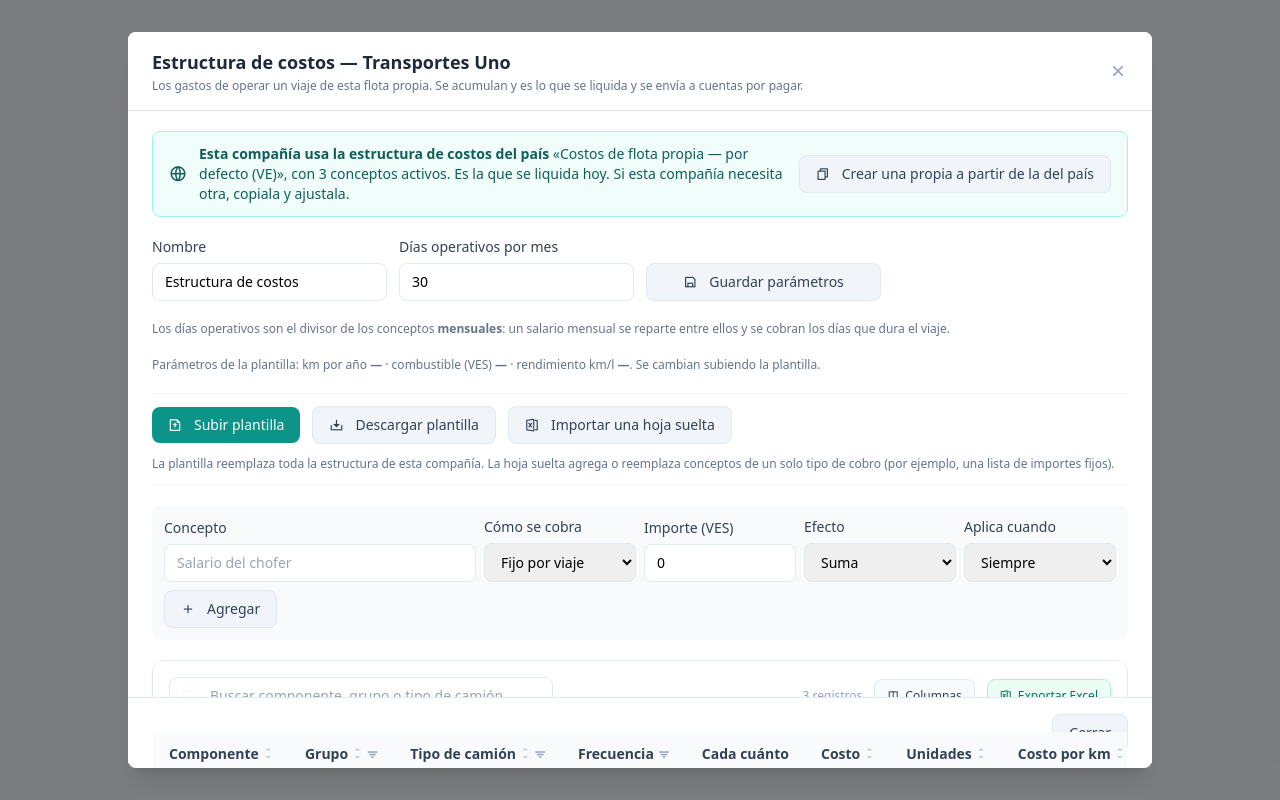
Test: CostStructureModal: parámetros, plantilla e importación › guardar parámetros sin estructura propia crea una con el nombre indicado
Expected: the text "Esta compañía usa la estructura de costos del país" is shown, [199,144,549,163]
Step 1. Replace the text in the field labelled "Nombre" with "Estructura VE 2026" → (270, 282), box [152,263,387,301]
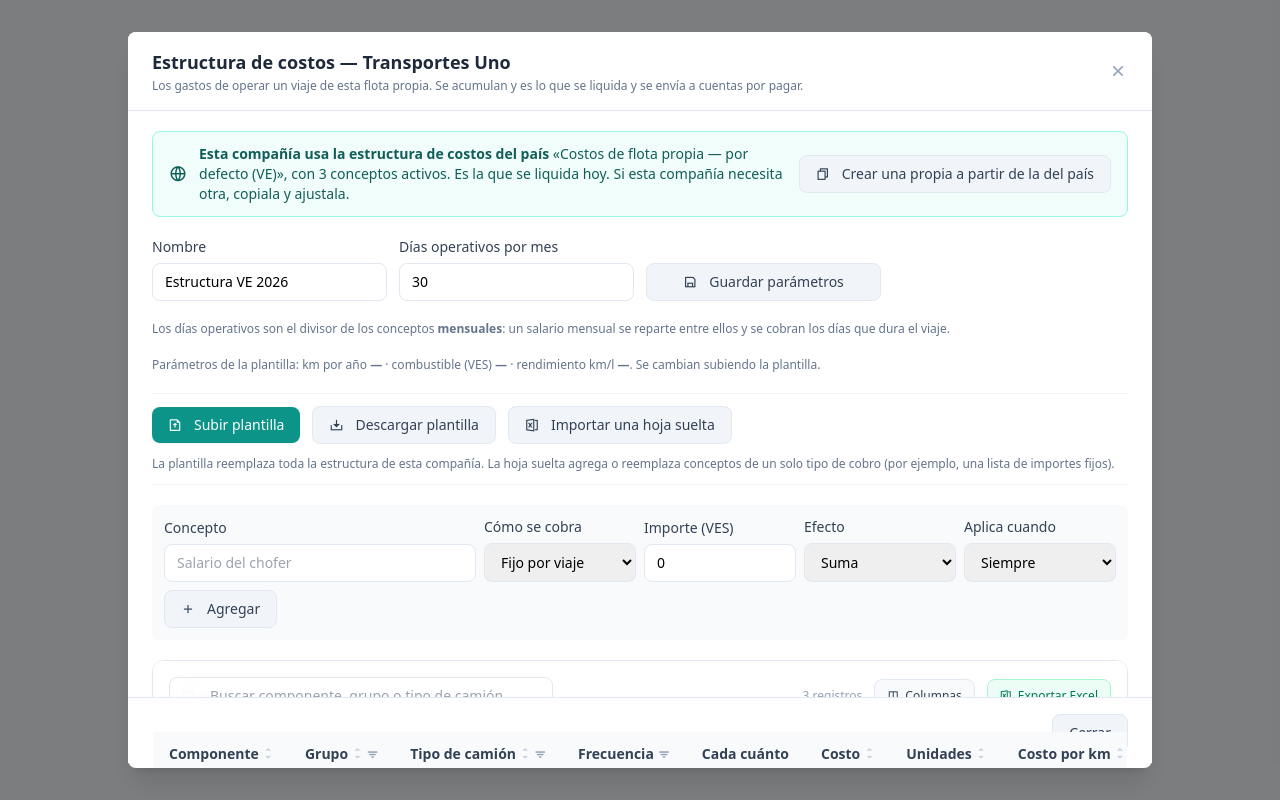
Step 2. Click the button "Guardar parámetros" → (764, 282), box [646,263,881,301]
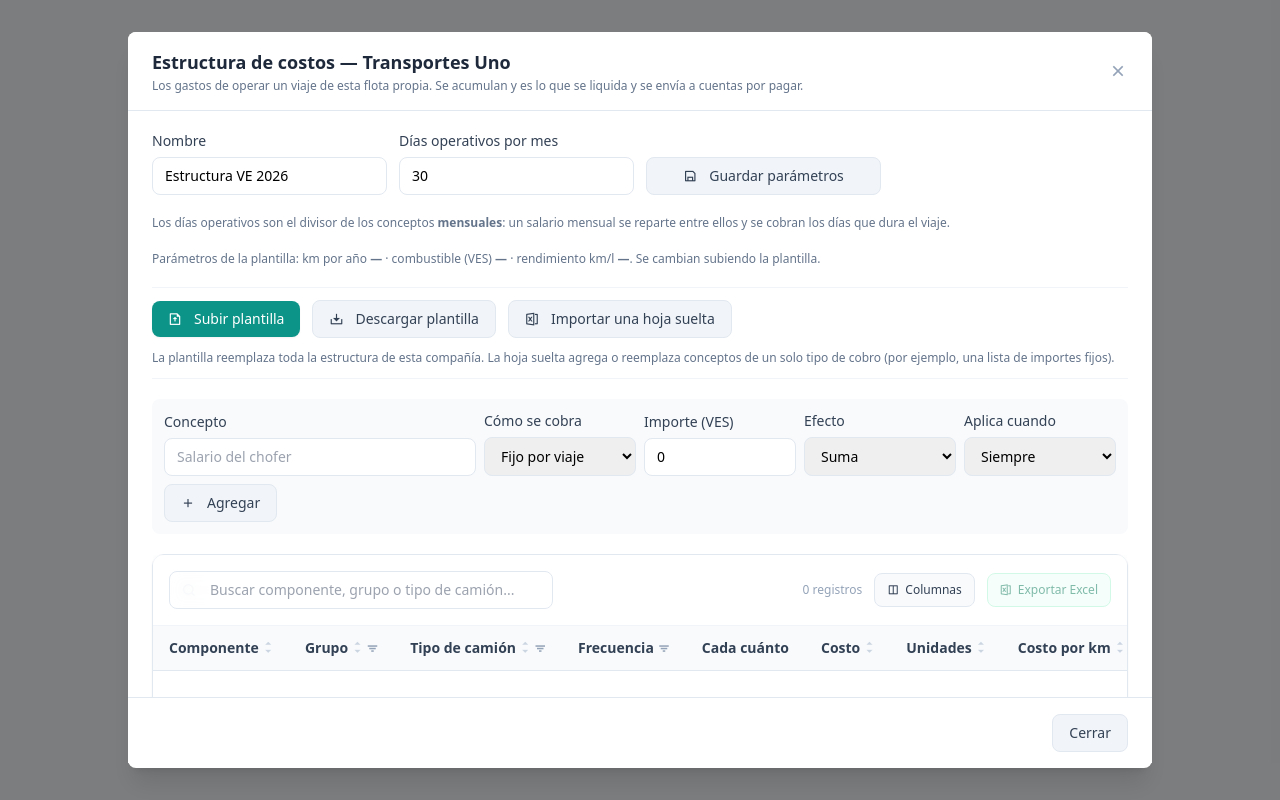
Result: the text "usa la estructura de costos del país" is gone
